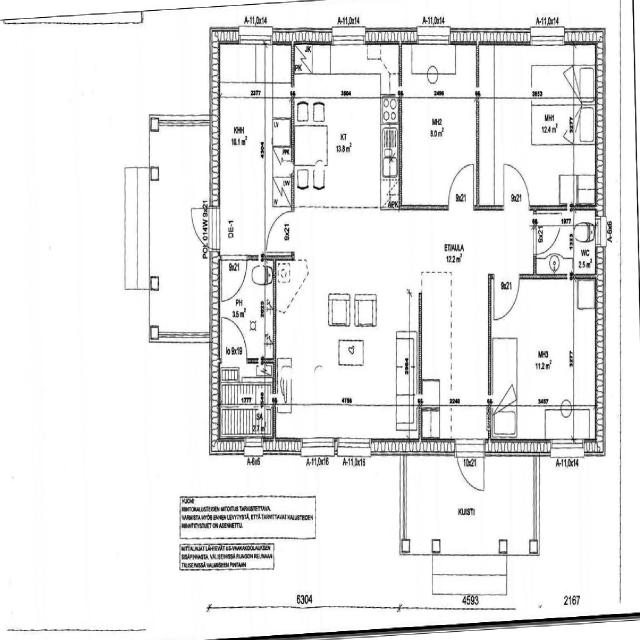door: (402, 447, 526, 556), (454, 436, 486, 493), (500, 156, 532, 210), (445, 157, 478, 207), (264, 206, 297, 256), (491, 272, 522, 324), (219, 254, 248, 303), (536, 213, 564, 258), (220, 314, 248, 355)
window: (144, 178, 158, 280), (334, 433, 374, 459), (156, 111, 204, 132), (527, 26, 568, 48), (299, 433, 336, 456), (414, 26, 454, 47), (331, 26, 367, 49), (548, 434, 584, 455)
zone: (484, 41, 601, 208), (291, 40, 398, 210), (213, 40, 291, 256), (489, 276, 592, 418), (148, 122, 214, 340), (400, 454, 534, 560), (399, 41, 477, 208), (218, 255, 275, 365), (218, 357, 276, 443), (499, 155, 533, 210)
